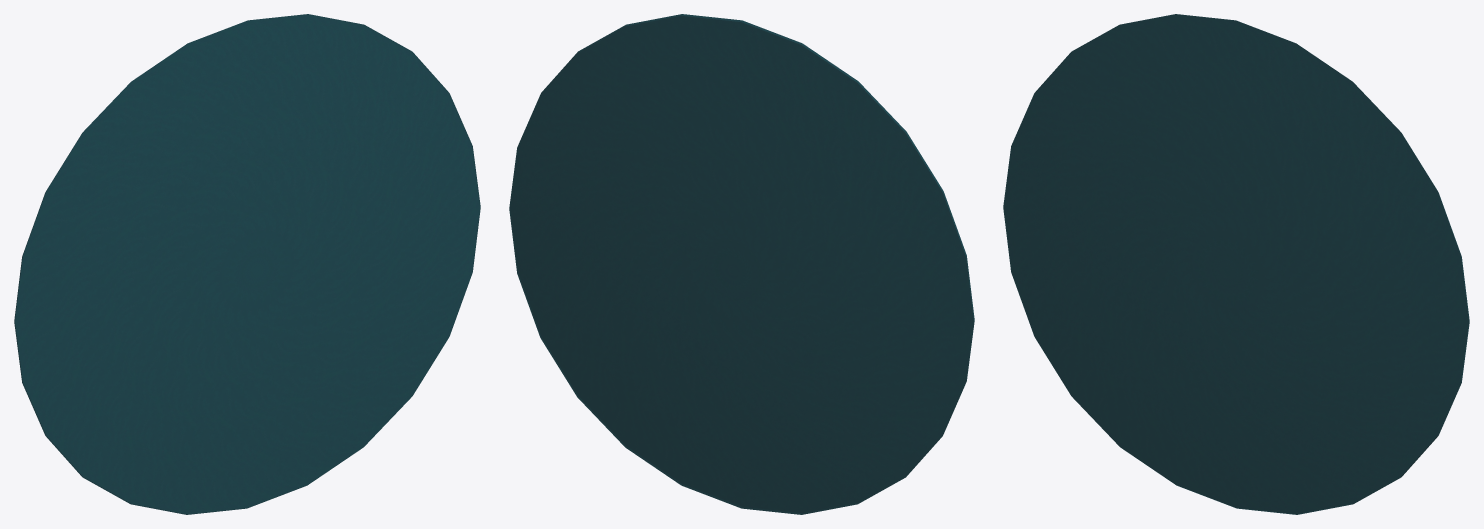
The model's file is original-38.obj.
3 views of the same model, side by side, from view 1: azimuth 30°, elevation 25°; view 2: azimuth 150°, elevation 25°; view 3: azimuth 330°, elevation 25° (orthographic).
Parts seen in each view (by area): view 1: Group37/mesh21/mesh21-geometry#mesh21-geometry; view 2: Group37/mesh21/mesh21-geometry#mesh21-geometry; view 3: Group37/mesh21/mesh21-geometry#mesh21-geometry.
Part boxes in pixels (left/top/right/bottom): Group37/mesh21/mesh21-geometry#mesh21-geometry: left=14, top=14, right=480, bottom=514; Group37/mesh21/mesh21-geometry#mesh21-geometry: left=509, top=14, right=974, bottom=514; Group37/mesh21/mesh21-geometry#mesh21-geometry: left=1003, top=14, right=1469, bottom=514.
Bounding box in the file's own units: 0.4114 × 0.4125 × 0.029.
1 material, 1 textured.
